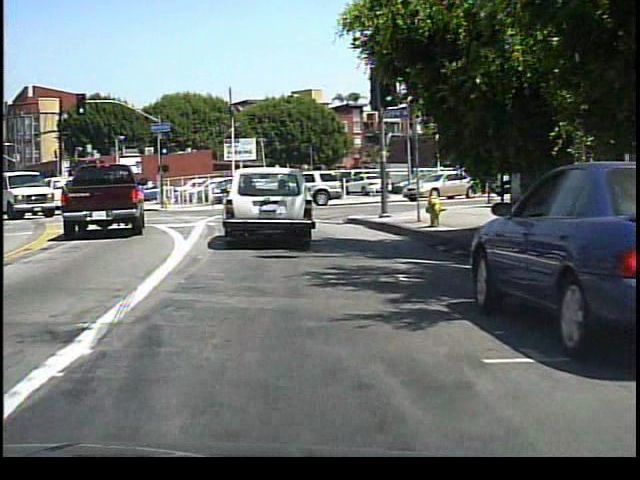person: (379, 165, 396, 203)
